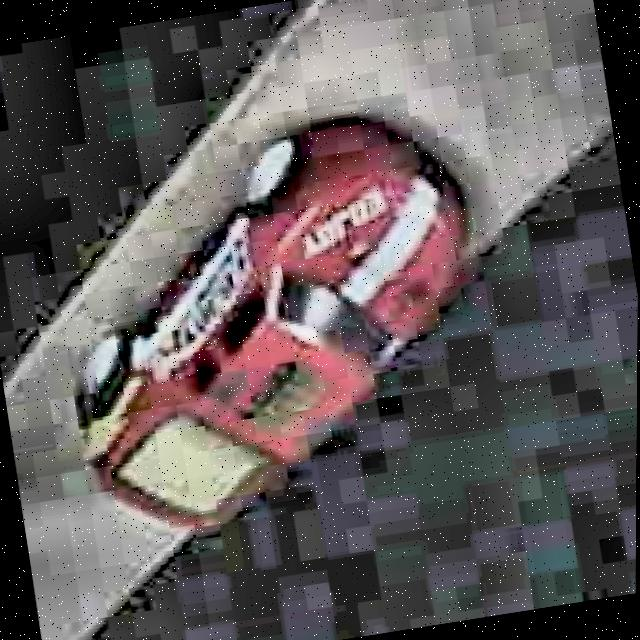car: (33, 95, 516, 558)
